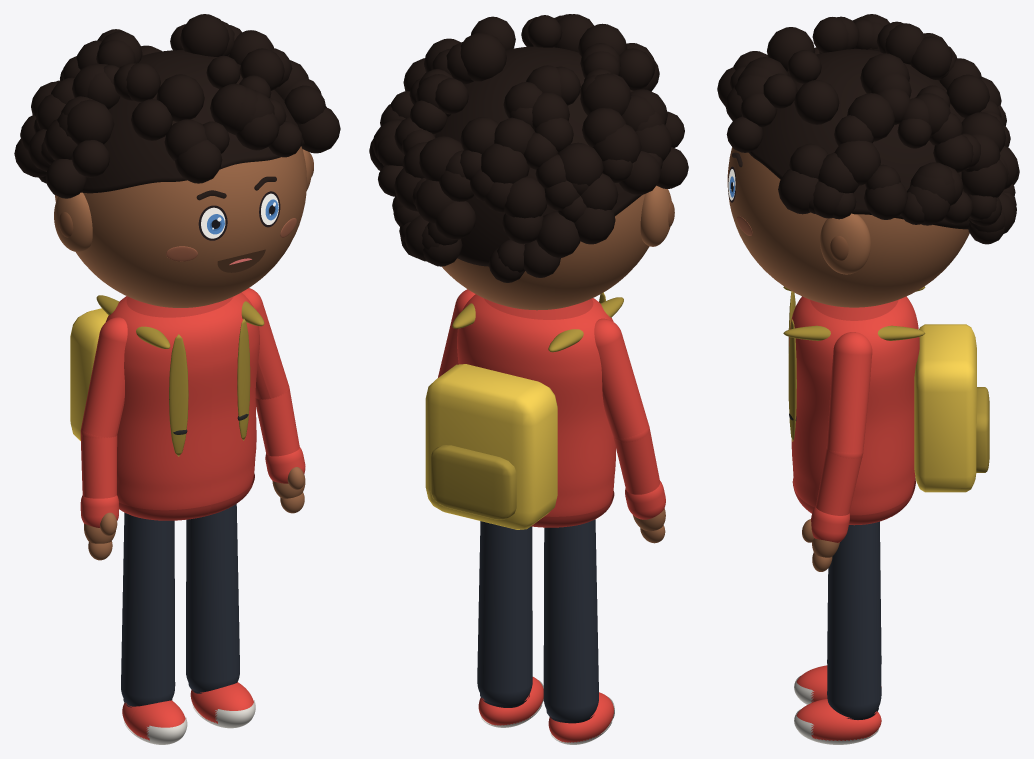
File: leerling_b.glb
3 renders of one model, left to right at view 1: azimuth 30°, elevation 25°; view 2: azimuth 150°, elevation 25°; view 3: azimuth 270°, elevation 25°, orthographic. The views are drawn at different scales.
Visible parts, largest first — view 1: leerling_b_romp, leerling_b_hoofd, leerling_b_been_R, leerling_b_been_L, leerling_b_haar, leerling_b_bovenarm_R, leerling_b_rugzak, leerling_b_onderarm_R, leerling_b_onderarm_L, leerling_b_bovenarm_L, leerling_b_rugzak_band_R, leerling_b_krul60 (+37 smaller); view 2: leerling_b_romp, leerling_b_rugzak, leerling_b_been_R, leerling_b_been_L, leerling_b_hoofd, leerling_b_haar, leerling_b_rugzak_vak, leerling_b_bovenarm_R, leerling_b_onderarm_R, leerling_b_krul60, leerling_b_krul28, leerling_b_oor_R (+53 smaller); view 3: leerling_b_romp, leerling_b_hoofd, leerling_b_rugzak, leerling_b_been_L, leerling_b_haar, leerling_b_bovenarm_L, leerling_b_onderarm_L, leerling_b_oor_L, leerling_b_schoen_L, leerling_b_krul55, leerling_b_krul0, leerling_b_krul26 (+41 smaller).
Part boxes in pixels (x1,y1,x2,y2): leerling_b_romp: (106, 292, 259, 510); leerling_b_hoofd: (55, 146, 306, 307); leerling_b_been_R: (121, 512, 175, 706); leerling_b_been_L: (186, 504, 239, 692); leerling_b_haar: (81, 50, 304, 193); leerling_b_bovenarm_R: (80, 317, 127, 437); leerling_b_rugzak: (70, 308, 108, 440); leerling_b_onderarm_R: (80, 431, 117, 498); leerling_b_onderarm_L: (255, 389, 299, 456); leerling_b_bovenarm_L: (242, 288, 288, 399); leerling_b_rugzak_band_R: (169, 334, 188, 456); leerling_b_krul60: (180, 14, 229, 56); leerling_b_romp: (457, 294, 615, 516); leerling_b_rugzak: (425, 364, 557, 529); leerling_b_been_R: (543, 519, 598, 721); leerling_b_been_L: (477, 521, 532, 705); leerling_b_hoofd: (442, 194, 649, 310); leerling_b_haar: (435, 46, 641, 266); leerling_b_rugzak_vak: (430, 445, 516, 519); leerling_b_bovenarm_R: (594, 318, 648, 441); leerling_b_onderarm_R: (613, 429, 660, 494); leerling_b_krul60: (460, 32, 506, 81); leerling_b_krul28: (580, 73, 631, 115); leerling_b_oor_R: (640, 185, 671, 246); leerling_b_romp: (789, 296, 919, 515); leerling_b_hoofd: (727, 147, 969, 307); leerling_b_rugzak: (914, 324, 976, 492); leerling_b_been_L: (827, 521, 881, 718); leerling_b_haar: (748, 49, 969, 229); leerling_b_bovenarm_L: (826, 332, 872, 458); leerling_b_onderarm_L: (815, 449, 863, 515); leerling_b_oor_L: (820, 213, 870, 274); leerling_b_schoen_L: (796, 699, 881, 740); leerling_b_krul55: (794, 80, 839, 124); leerling_b_krul0: (847, 93, 894, 141); leerling_b_krul26: (946, 74, 989, 117).
Size of the model in its own units: 0.7148 by 1.71 by 0.6802.
